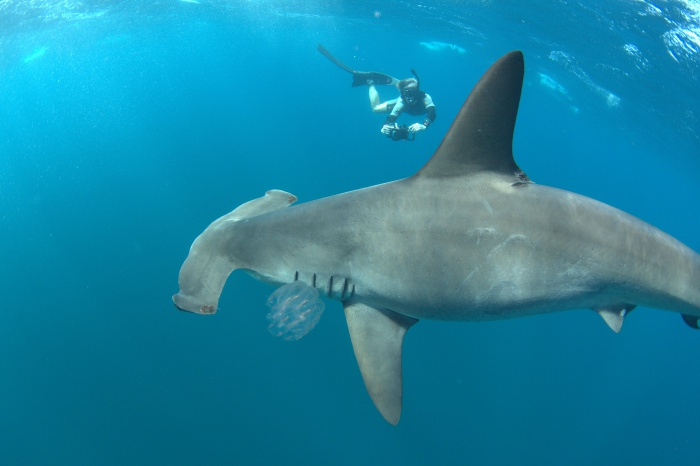Hammer: (148, 48, 700, 414)
